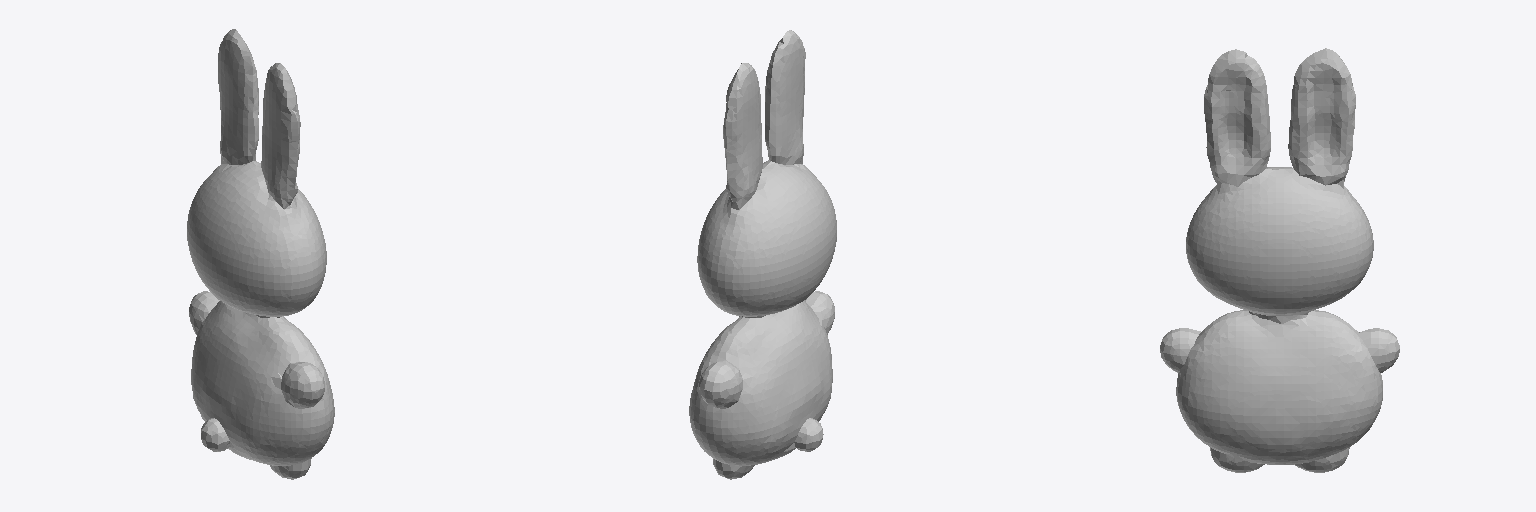
The model's file is rabbit.obj.
3 views of the same model, side by side, from view 1: azimuth 30°, elevation 25°; view 2: azimuth 150°, elevation 25°; view 3: azimuth 270°, elevation 25° (orthographic).
Bounding box in the file's own units: 1.83 × 6.85 × 3.57.